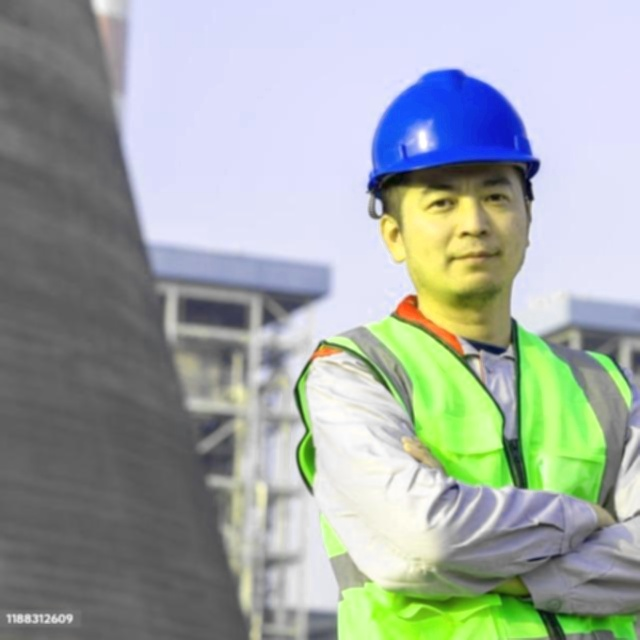Con_Casco: (367, 68, 540, 308)
Con_Chaleco: (307, 316, 640, 640)
